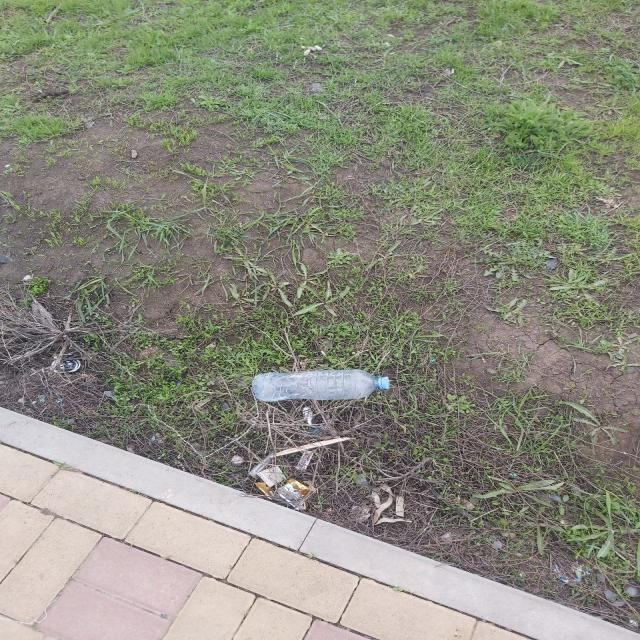empty: (253, 370, 389, 402)
